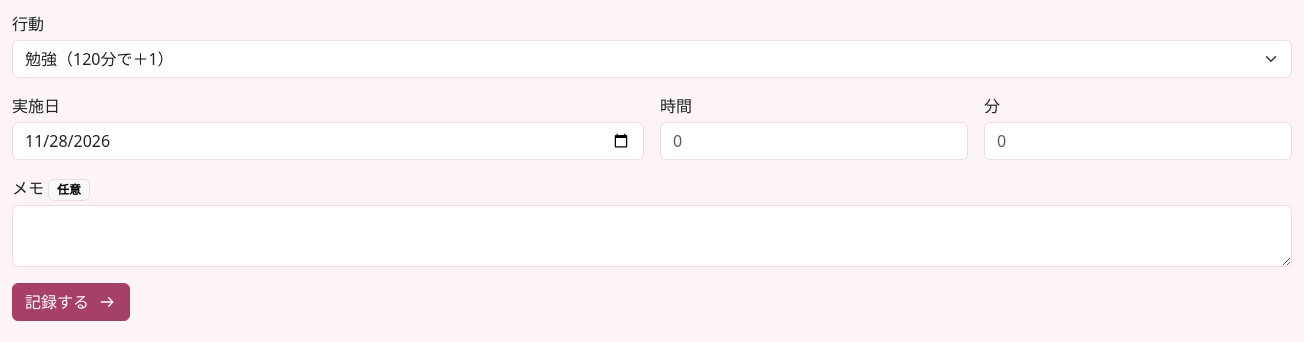
Test case: 時間と分をまとめて記録し、成功時のみ入力をクリアする
This screenshot has width=1304, height=342.
Step 1. Type "2" into the number field labelled "時間" → [814, 141], box left=660, top=122, right=968, bottom=160
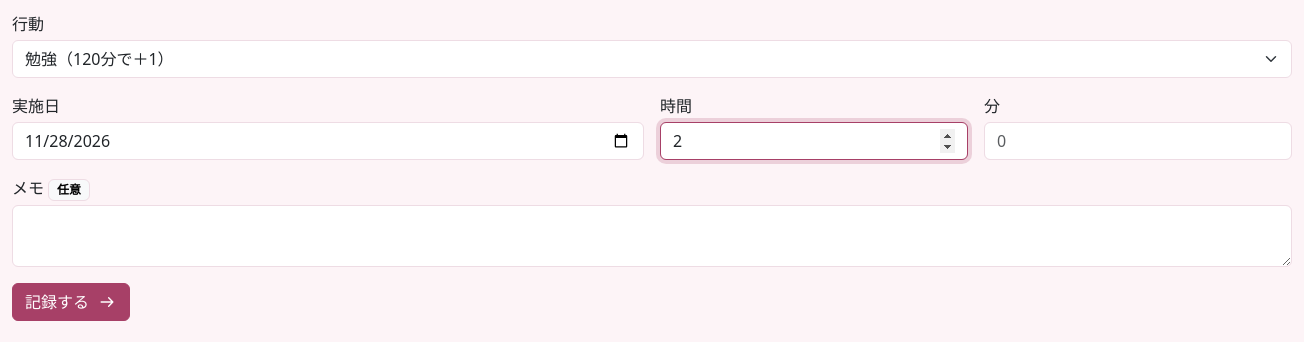
Step 2. Type "30" into the number field labelled "分" → [1138, 141], box left=984, top=122, right=1292, bottom=160
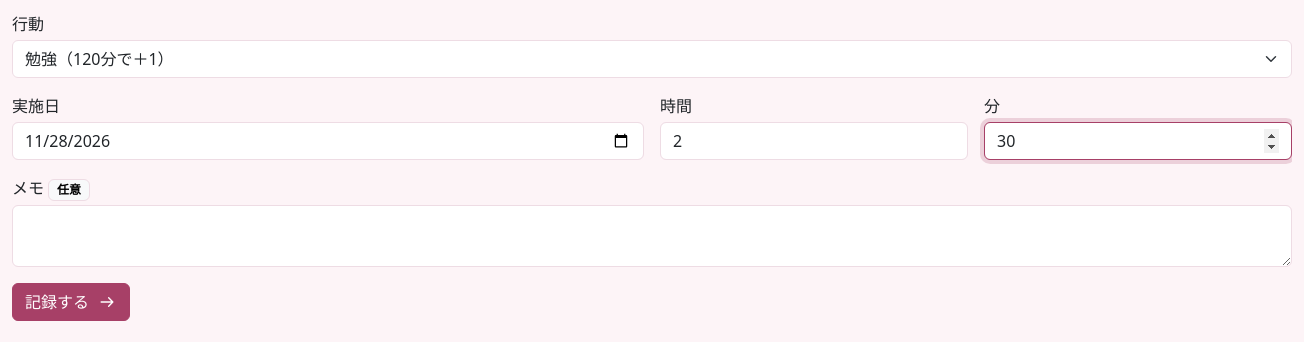
Step 3. Click the button "記録する" → [71, 302], box left=12, top=283, right=130, bottom=321
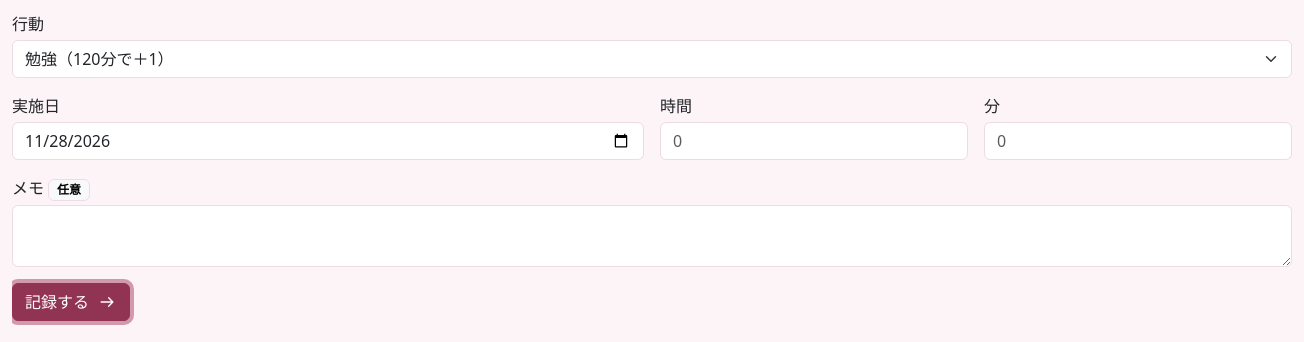
Expected: the number field labelled "時間" is not empty, left=660, top=122, right=968, bottom=160
